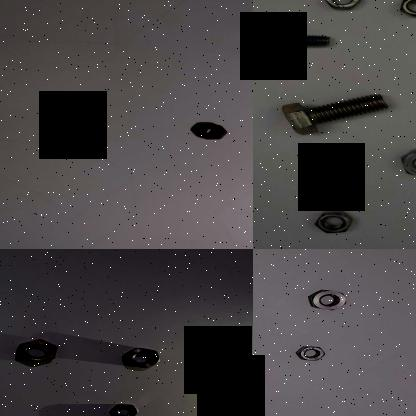Bolts: (274, 86, 396, 138)
NUTS: (301, 207, 357, 241), (306, 286, 350, 312), (18, 338, 60, 364), (394, 140, 416, 187), (121, 346, 164, 370), (294, 344, 330, 361), (107, 399, 141, 416), (198, 122, 230, 140), (316, 0, 368, 11), (393, 0, 416, 18)
